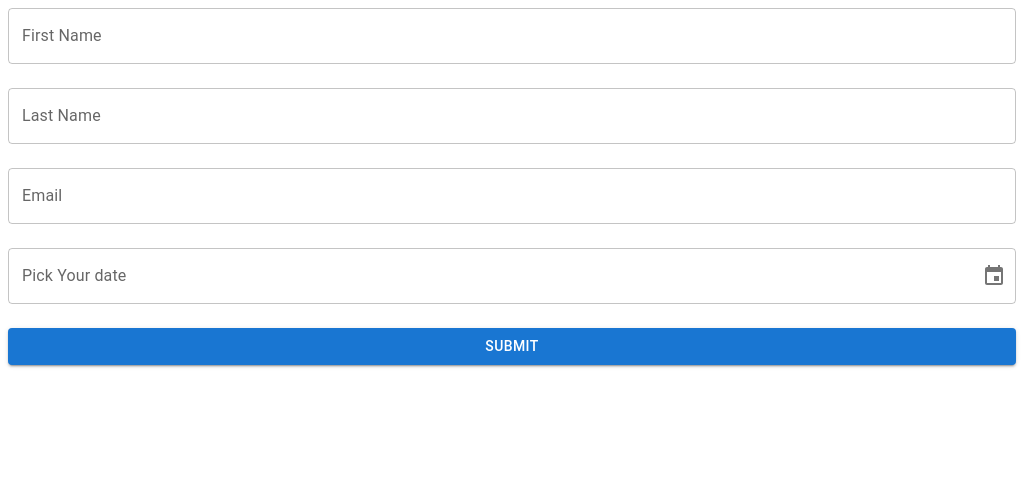
Test: Test Inputs and validations › after enter invalid email it should return error message
The width and height of the screenshot is (1024, 483).
In the field labelled "Email": (512, 196) [8,168,1016,224], type "Winter is Coming"
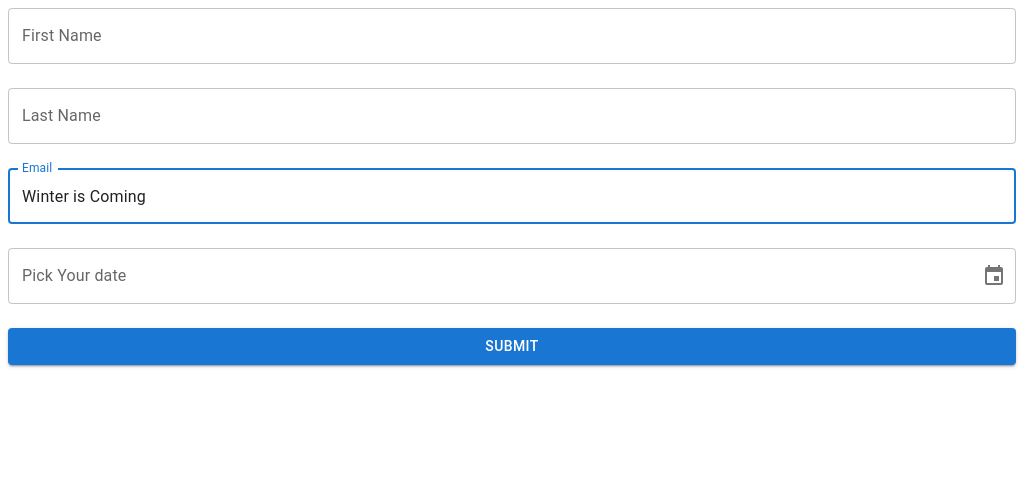
Click the button "Submit": (512, 346) [8,328,1016,364]
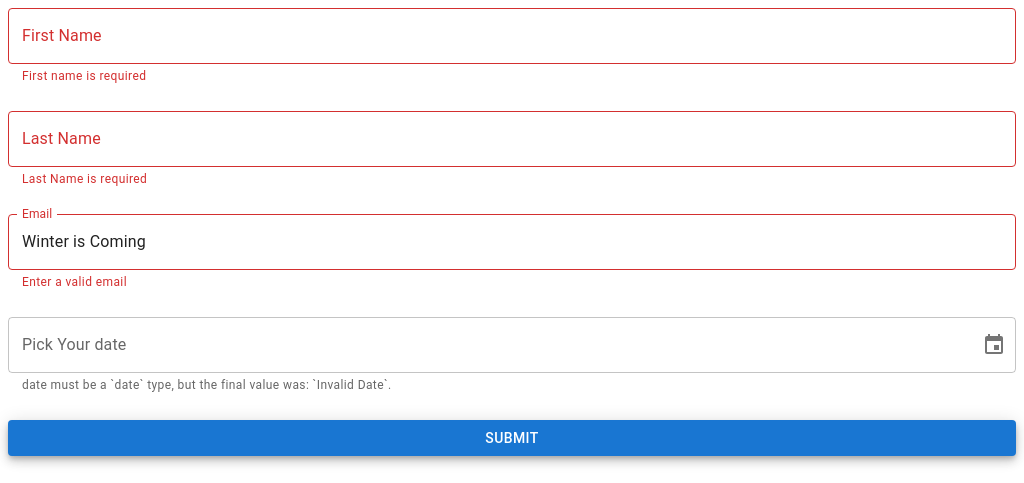
Now the text "Enter a valid email" is shown, box [22,275,127,289]
